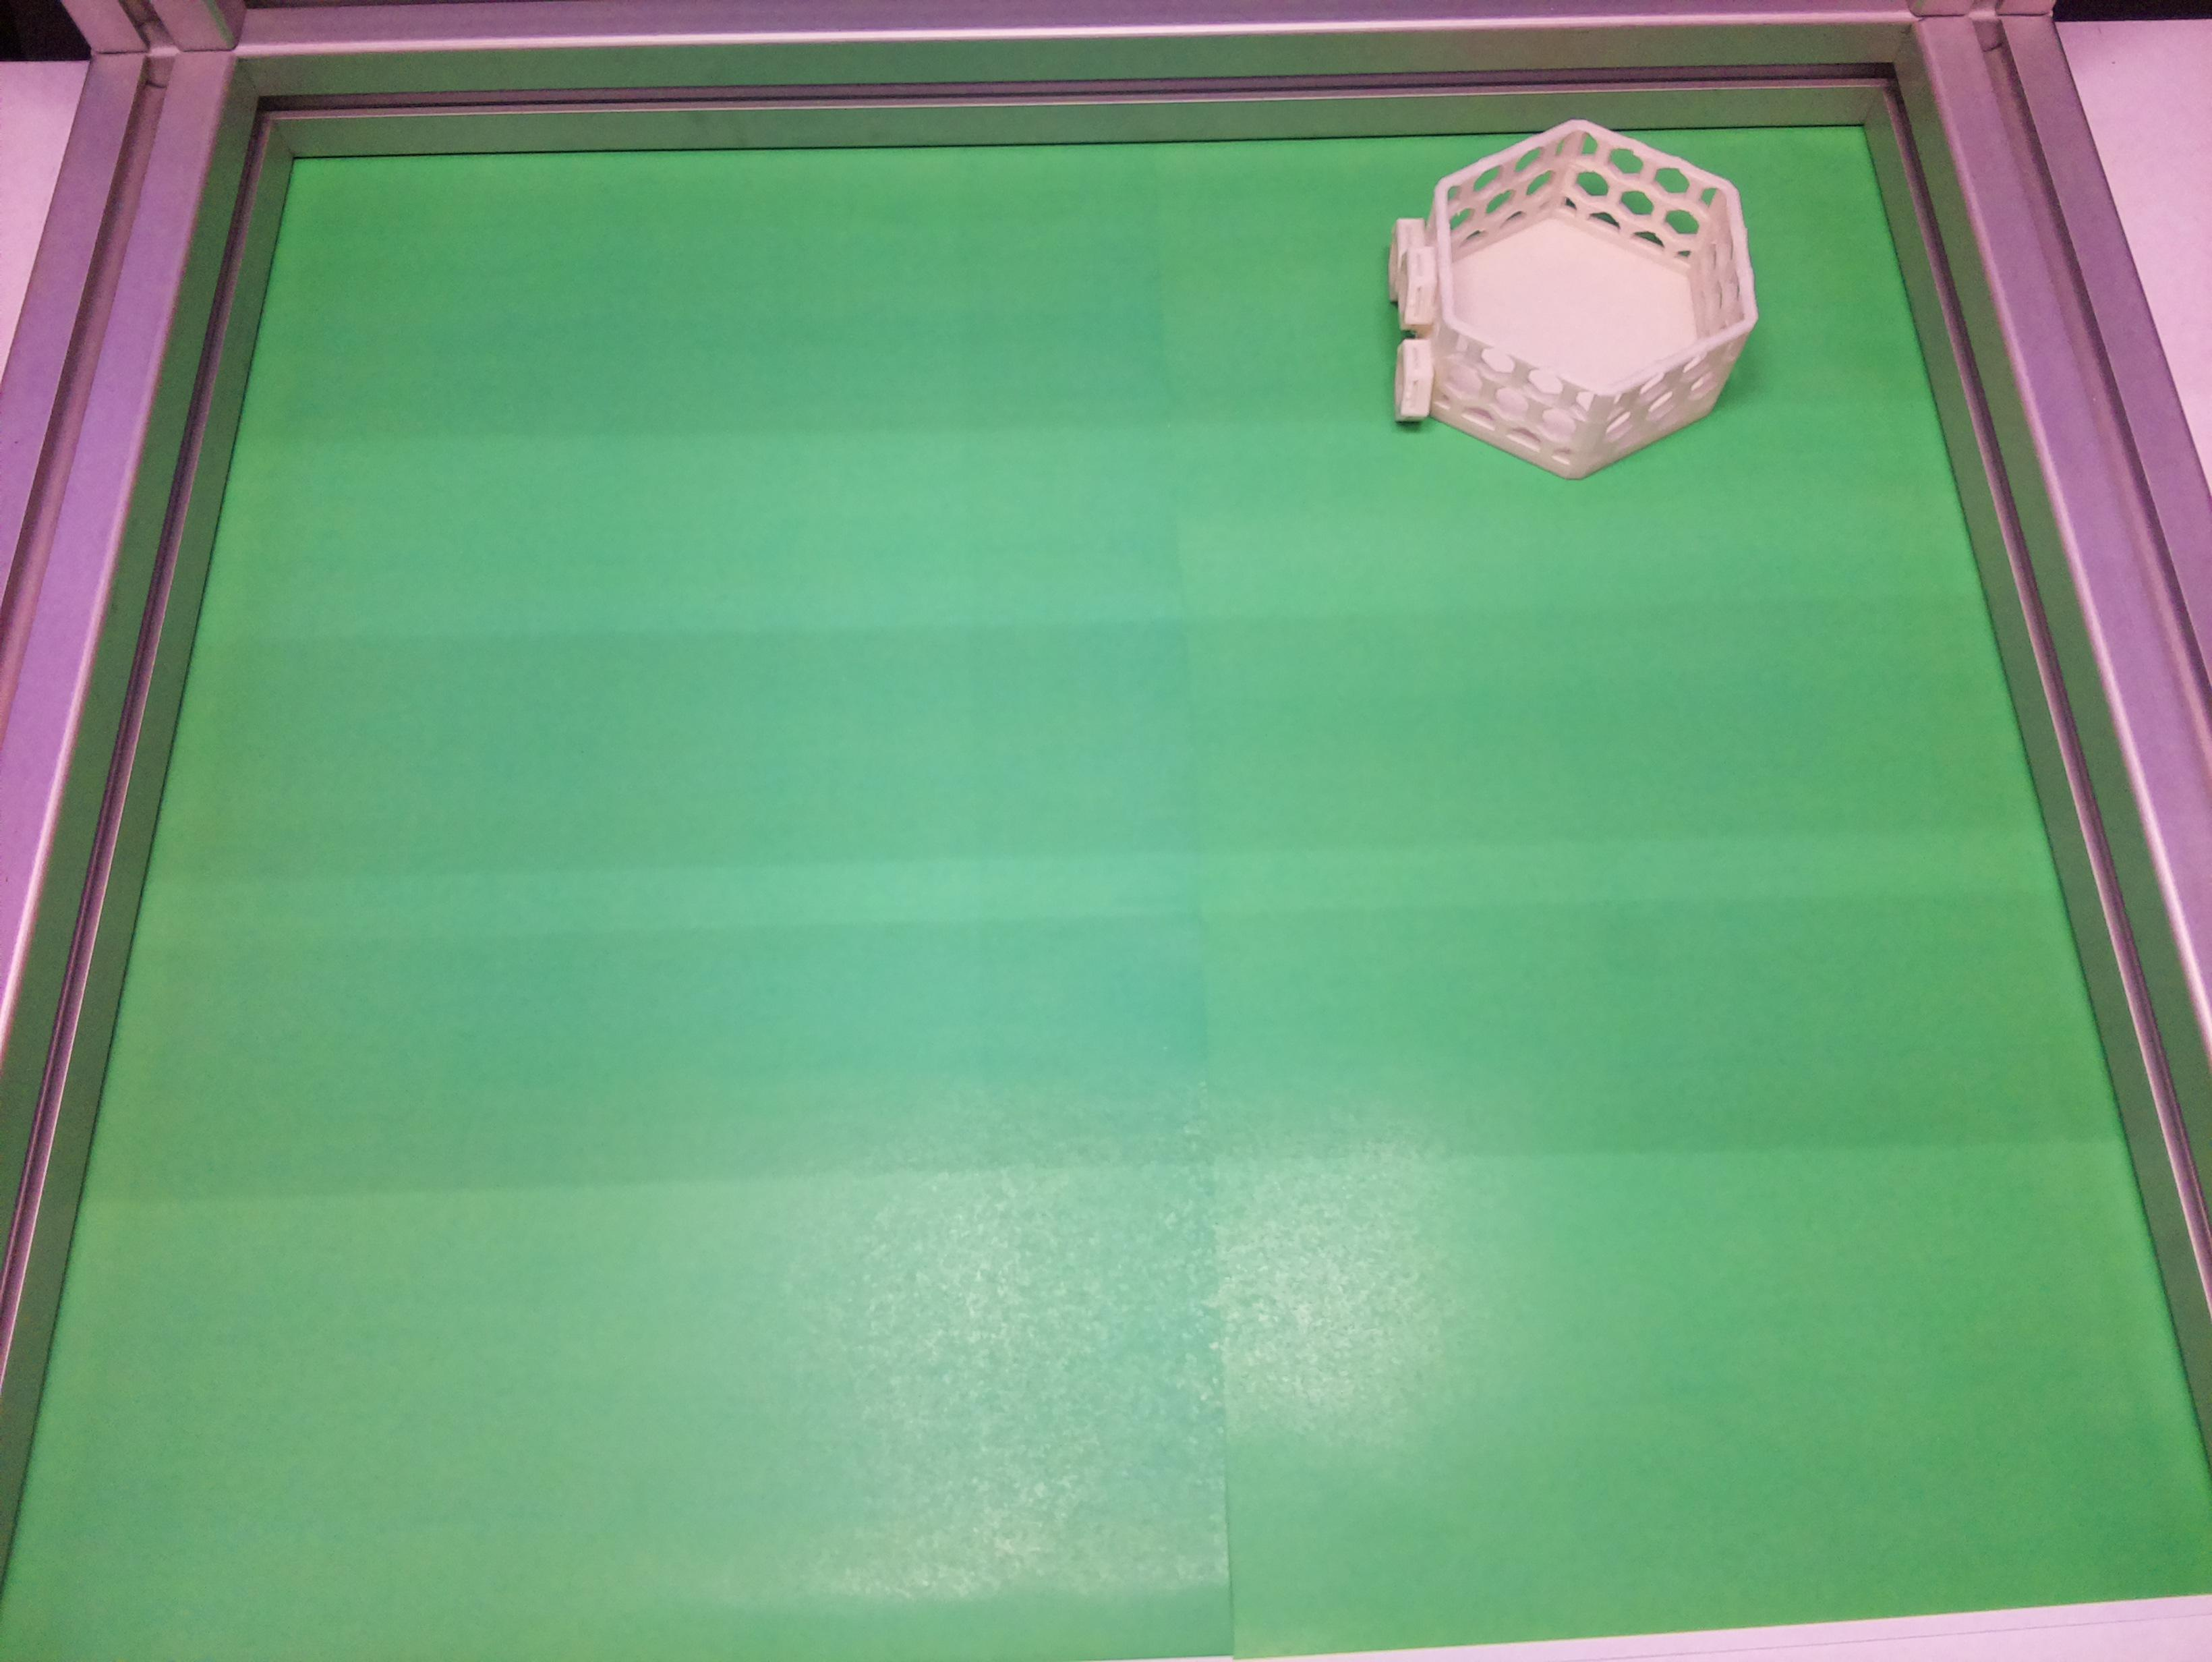bottle_holder: (1331, 71, 1801, 525)
